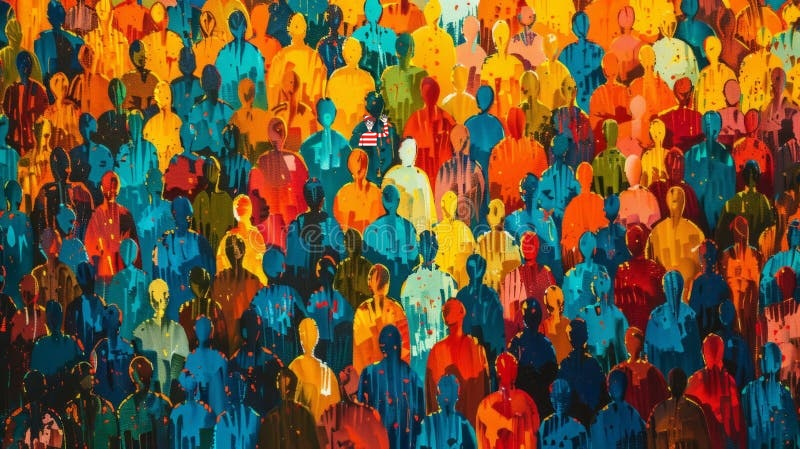waldo: (358, 114, 389, 146)
